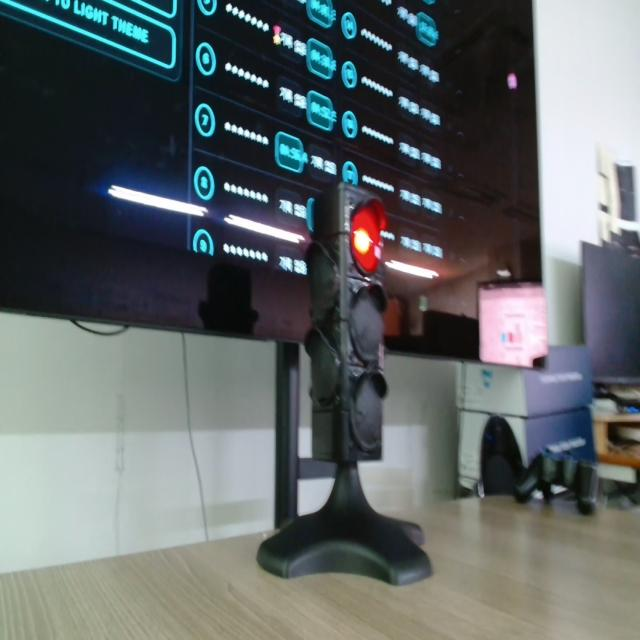red_light: (351, 200, 386, 274)
